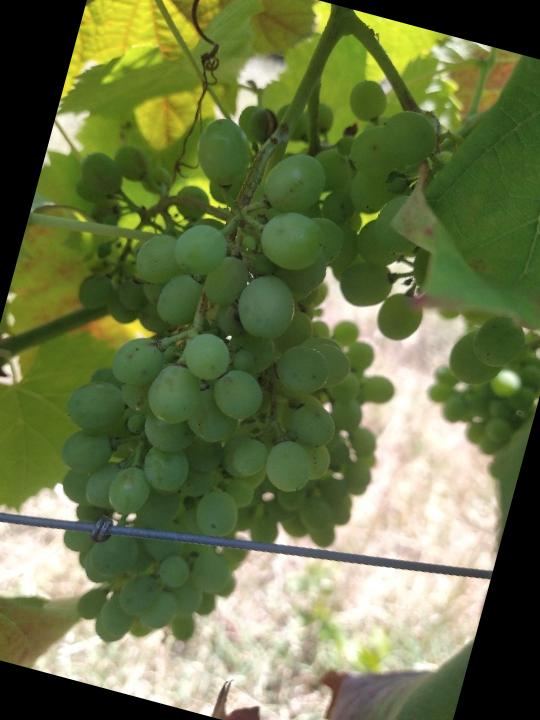grape: (0, 8, 490, 707)
